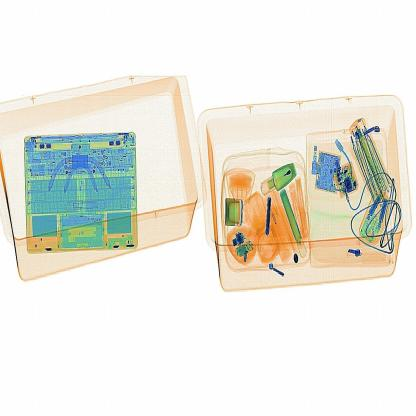knife: (259, 189, 279, 245)
